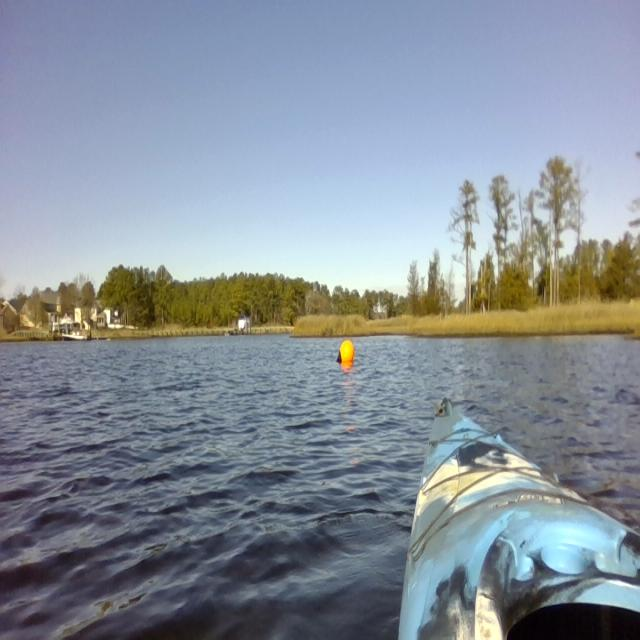Buoy: (333, 336, 359, 372)
